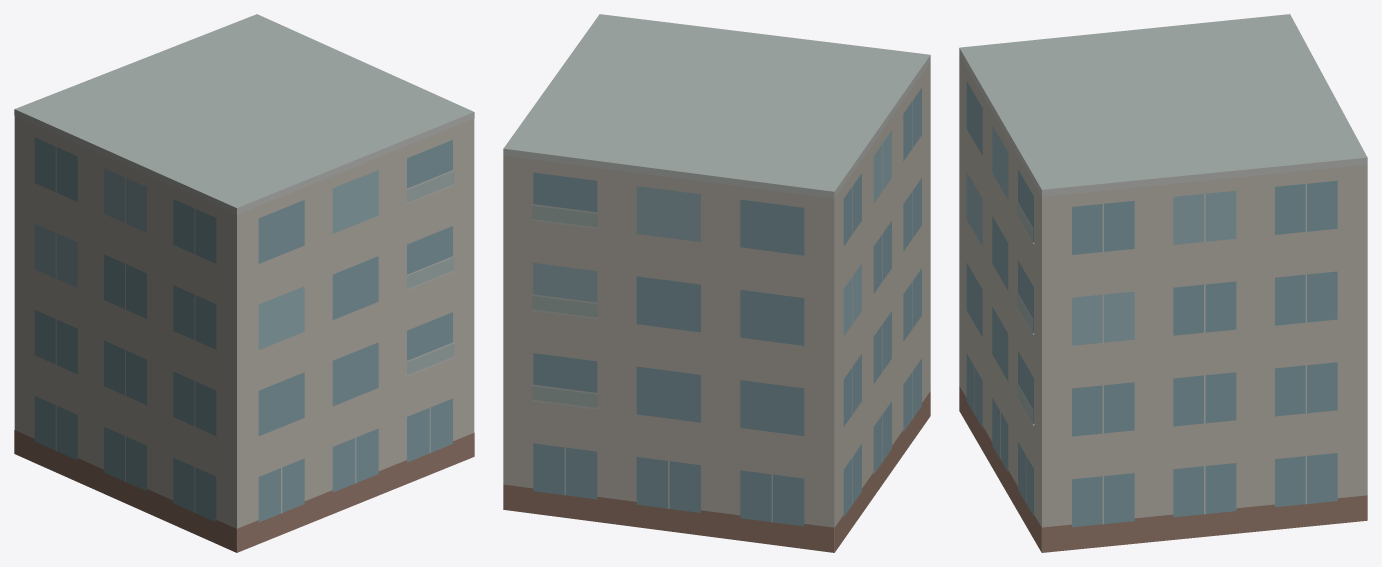
File: survey-upis-32812189.glb
3 views of the same model, side by side, from view 1: azimuth 30°, elevation 25°; view 2: azimuth 150°, elevation 25°; view 3: azimuth 270°, elevation 25° (orthographic). The views are drawn at different scales.
Visible parts, largest first — view 1: survey-upis-32812189.tmp; view 2: survey-upis-32812189.tmp; view 3: survey-upis-32812189.tmp.
Part boxes in pixels (bbox=[...]): survey-upis-32812189.tmp: bbox=[14, 14, 474, 552]; survey-upis-32812189.tmp: bbox=[503, 14, 930, 552]; survey-upis-32812189.tmp: bbox=[959, 14, 1367, 552].
Size of the model in its own units: 13.3 by 12.8 by 13.06.
